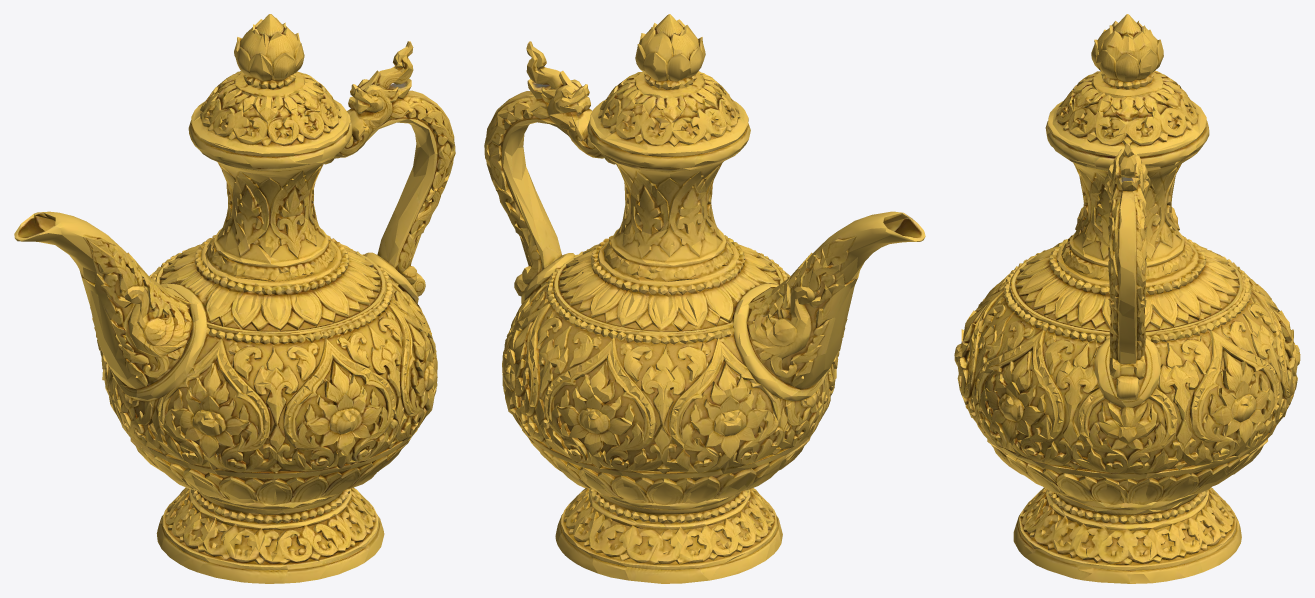
Rendered from jar.glb.
3 renders of one model, left to right at view 1: azimuth 30°, elevation 25°; view 2: azimuth 150°, elevation 25°; view 3: azimuth 270°, elevation 25°, orthographic.
Bounding box in the file's own units: 1.66 × 1.9 × 1.14.
1 material, 1 textured.
